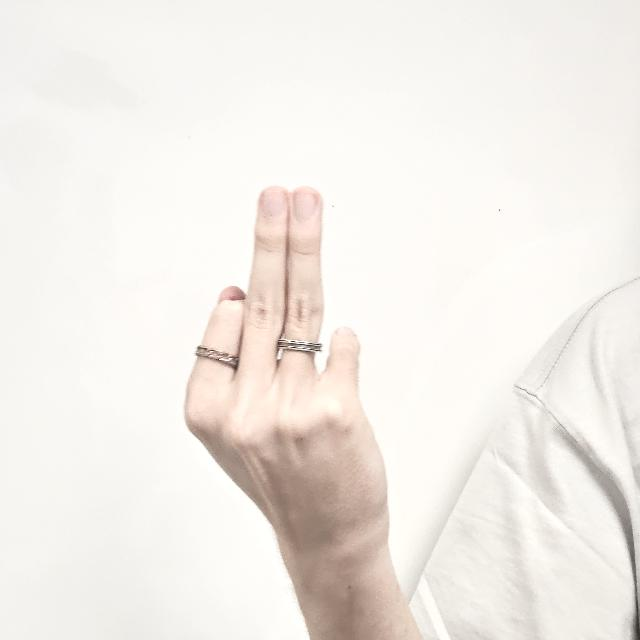R: (172, 185, 396, 547)
